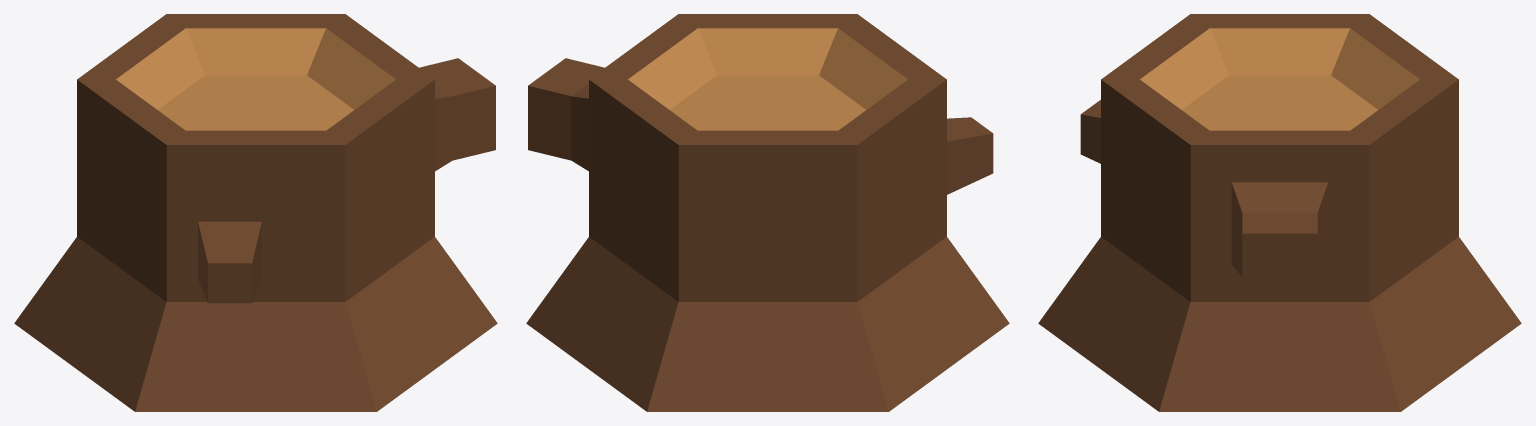
File: kenney_stump_round.glb
3 renders of one model, left to right at view 1: azimuth 30°, elevation 25°; view 2: azimuth 150°, elevation 25°; view 3: azimuth 270°, elevation 25°, orthographic.
Visible parts, largest first — view 1: bark, wood; view 2: bark, wood; view 3: bark, wood.
Part boxes in pixels (bbox=[...]): bark: bbox=[14, 14, 497, 411]; wood: bbox=[116, 28, 395, 130]; bark: bbox=[526, 14, 1009, 411]; wood: bbox=[628, 28, 907, 130]; bark: bbox=[1038, 14, 1521, 411]; wood: bbox=[1140, 28, 1419, 130].
Size of the model in its own units: 0.3565 by 0.2065 by 0.371.
